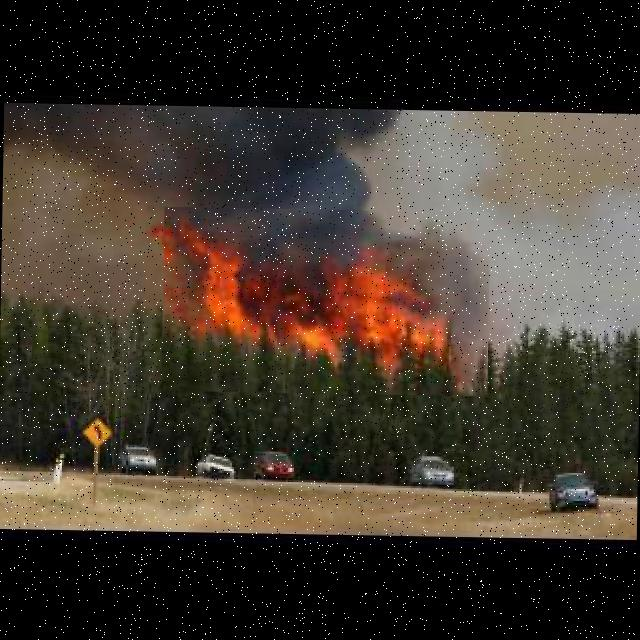fire: (161, 206, 490, 396)
